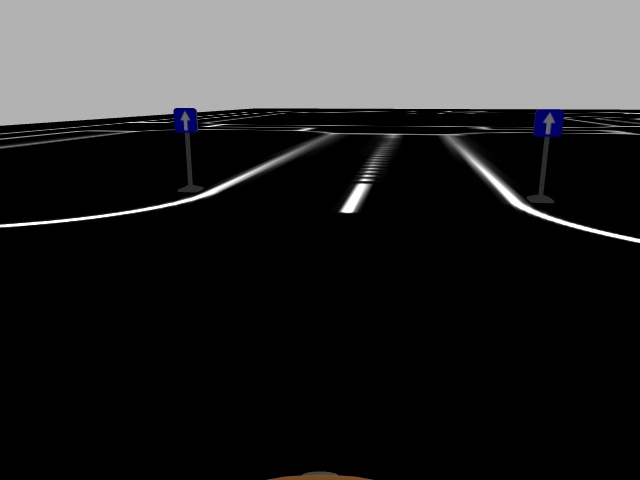oneway: (534, 107, 565, 142), (171, 105, 198, 137)
